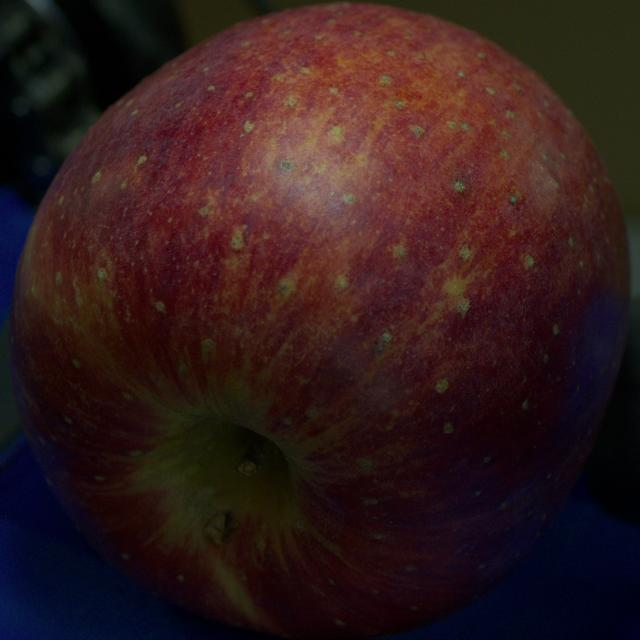apple: (11, 3, 629, 639)
pest: (205, 511, 232, 546)
